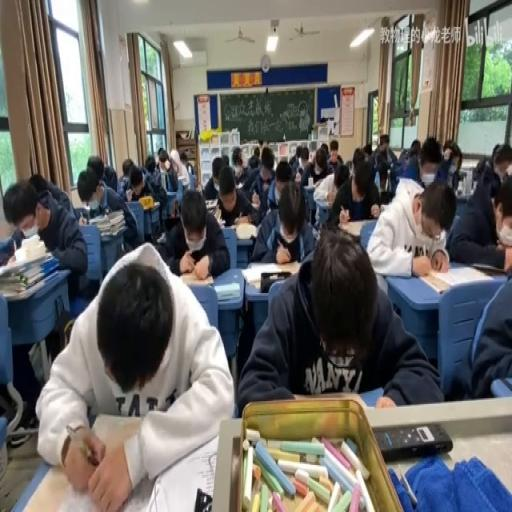calculator: (420, 263, 500, 292), (239, 260, 294, 284), (338, 216, 374, 236), (313, 198, 331, 229), (179, 269, 211, 286), (214, 282, 240, 300), (234, 222, 258, 240), (99, 220, 125, 234), (99, 208, 124, 222), (22, 222, 39, 239), (0, 235, 13, 256), (211, 205, 224, 222), (204, 196, 218, 208), (88, 214, 104, 224), (245, 278, 261, 288), (160, 170, 166, 190), (155, 232, 165, 243), (251, 196, 259, 206), (149, 199, 159, 206)
paper: (36, 239, 234, 508), (237, 226, 436, 417), (4, 175, 86, 303), (367, 176, 454, 278), (448, 155, 511, 267), (158, 185, 230, 280), (248, 176, 315, 263), (80, 165, 141, 260), (319, 158, 380, 230), (141, 154, 170, 223), (298, 145, 333, 191), (371, 132, 396, 184), (433, 138, 458, 181), (202, 155, 224, 202), (166, 145, 190, 188), (230, 144, 250, 182), (128, 165, 146, 198), (86, 155, 104, 182), (402, 156, 422, 180), (29, 170, 48, 194), (289, 145, 304, 174), (334, 162, 350, 189), (102, 162, 116, 192), (328, 138, 342, 166), (274, 160, 290, 184), (259, 145, 274, 169), (473, 155, 486, 181), (451, 169, 464, 195), (246, 144, 260, 168), (352, 146, 365, 166), (409, 139, 421, 158), (145, 154, 155, 172), (122, 160, 133, 176), (379, 189, 389, 205), (491, 142, 501, 156), (184, 161, 194, 175), (158, 155, 168, 169), (220, 154, 229, 169), (319, 142, 328, 156), (362, 144, 372, 156), (157, 145, 163, 157)
person: (373, 422, 452, 461), (193, 488, 211, 509), (163, 212, 182, 230)
